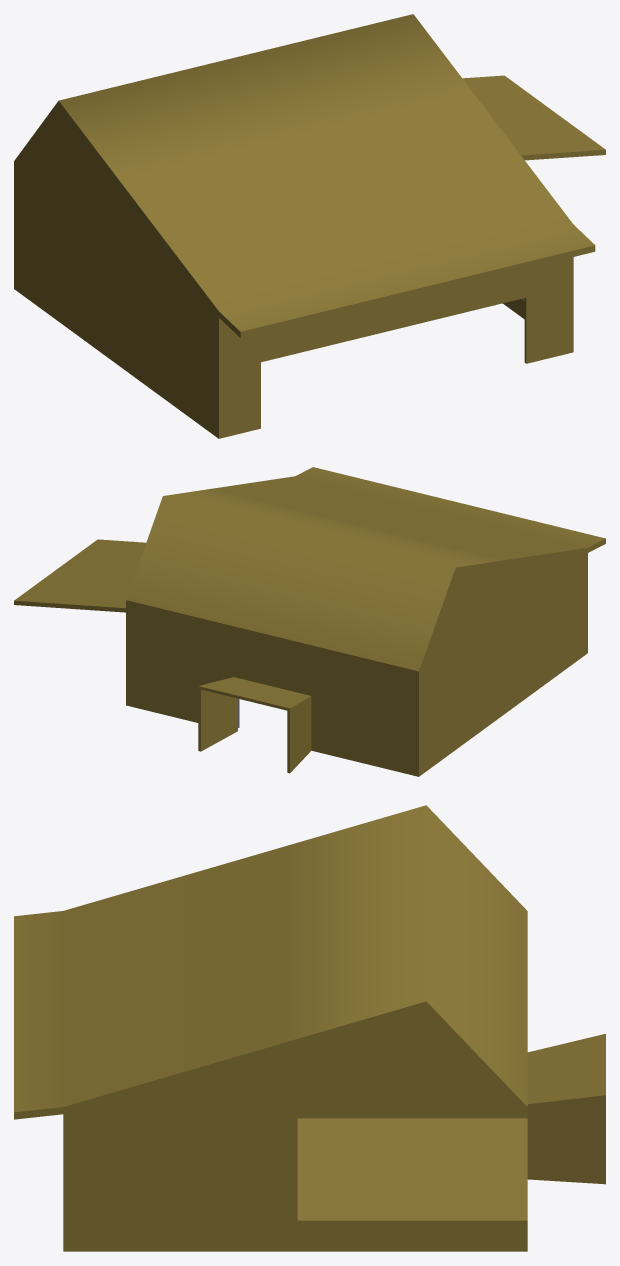
The model's file is CheckpointGraybox01.fbx.
3 views of the same model, one above another, from view 1: azimuth 30°, elevation 25°; view 2: azimuth 150°, elevation 25°; view 3: azimuth 270°, elevation 25° (orthographic). The views are drawn at different scales.
Visible parts, largest first — view 1: Checkpoint01; view 2: Checkpoint01; view 3: Checkpoint01.
Part boxes in pixels (box(x1,y1,x2,y2)): Checkpoint01: box(14, 14, 605, 438); Checkpoint01: box(14, 467, 605, 776); Checkpoint01: box(14, 805, 605, 1251).
Bounding box in the file's own units: 3493 × 1504 × 3222.
